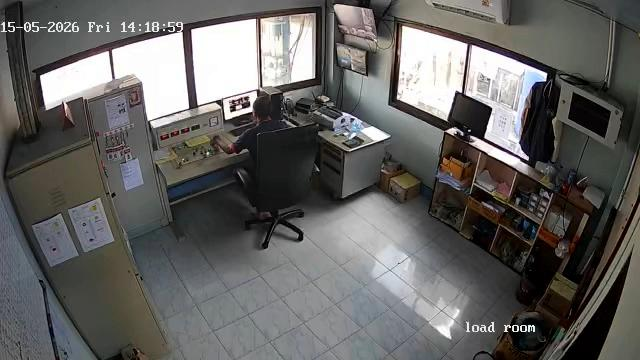Head: (252, 97, 273, 120)
People: (213, 96, 290, 155)
